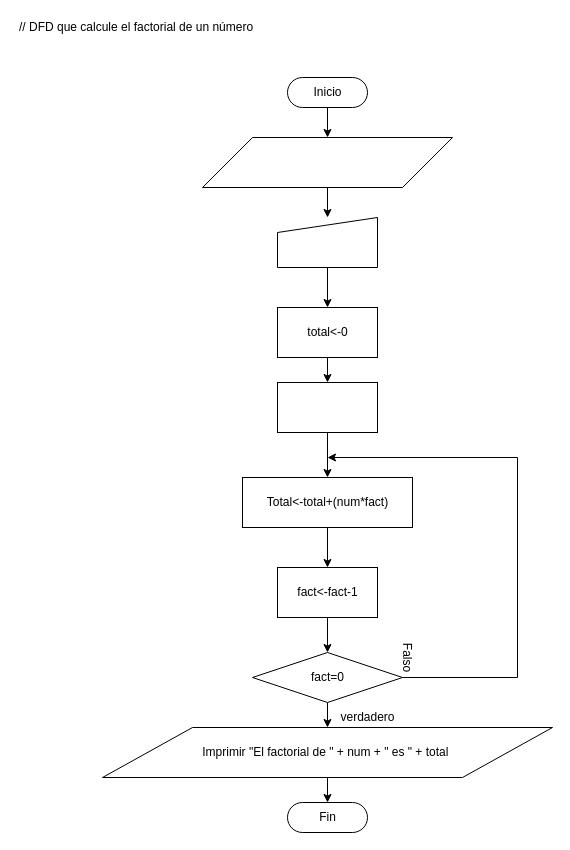
Some shapes in this 570 by 850 pixel diagram are drawn without their labels. The shapes that lost their labels are listed below. From the top down, each one's box as (x1, y1, x2, y2) in pixels, then its label:
(202, 136, 452, 188): Imprimir "Introduzca un número"
(276, 216, 378, 268): Leer num
(276, 382, 378, 432): fact<-num
